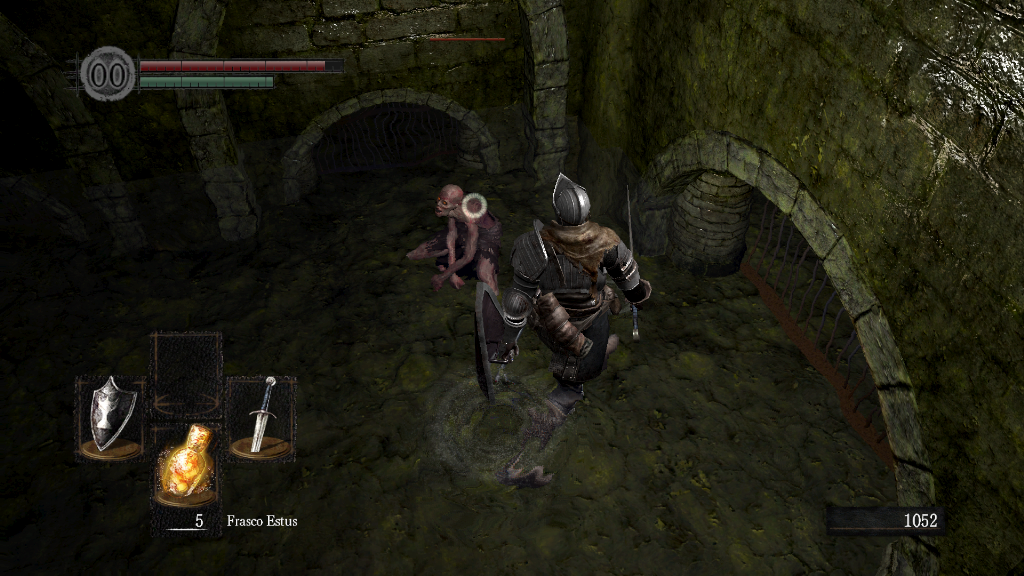health: (138, 58, 343, 71)
hollow: (399, 183, 503, 312)
humanity: (80, 45, 136, 102)
player: (474, 170, 653, 486)
souls: (825, 506, 945, 536)
stamina: (138, 74, 274, 88)
